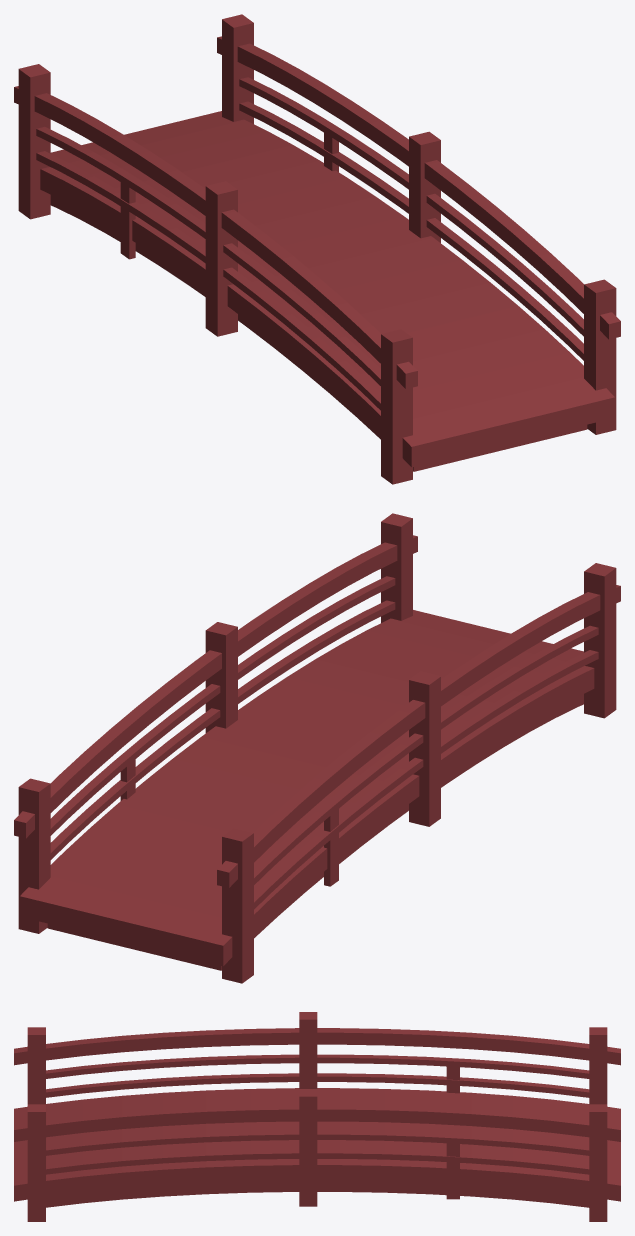
Rendered from Bridge.fbx.
3 views of the same model, one above another, from view 1: azimuth 30°, elevation 25°; view 2: azimuth 150°, elevation 25°; view 3: azimuth 270°, elevation 25° (orthographic). The views are drawn at different scales.
Parts seen in each view (by area): view 1: Cube.149; view 2: Cube.149; view 3: Cube.149.
Part boxes in pixels (box(x1,y1,x2,y2)): Cube.149: box(14, 14, 620, 484); Cube.149: box(14, 513, 620, 983); Cube.149: box(14, 1012, 620, 1221).
Size of the model in its own units: 330 by 228 by 1000.
